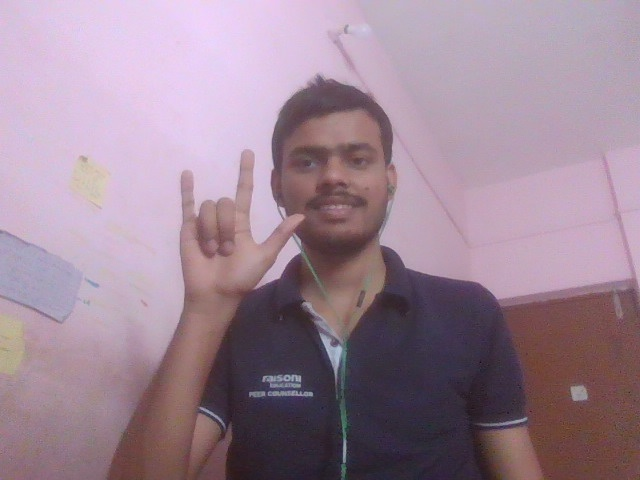ILoveYou: (143, 131, 321, 376)
